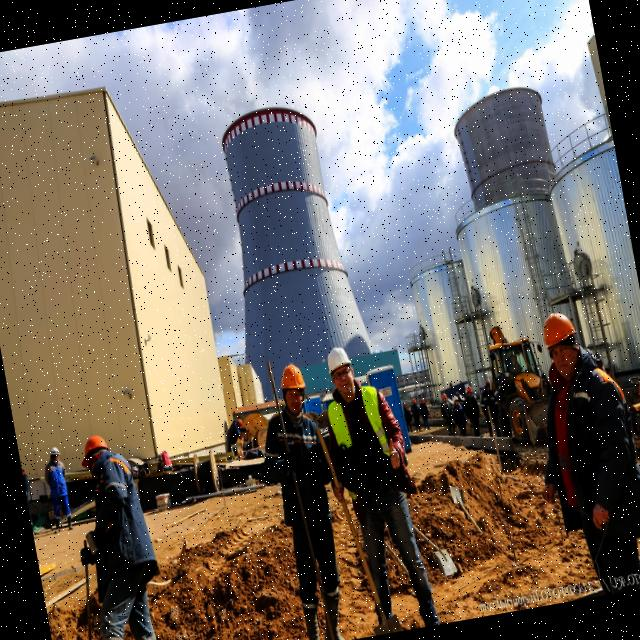Helmet: (539, 311, 578, 354), (324, 344, 356, 381), (77, 435, 112, 467), (279, 363, 308, 399), (50, 446, 61, 458), (467, 386, 475, 395), (237, 419, 244, 428), (484, 381, 491, 389), (454, 397, 461, 404), (442, 393, 448, 401), (413, 398, 418, 406), (403, 402, 408, 410), (421, 399, 426, 405)
Jacket: (326, 380, 404, 497)
NoJacket: (550, 362, 640, 534), (91, 459, 154, 589), (271, 404, 335, 530), (49, 461, 69, 499), (484, 390, 500, 422), (468, 397, 482, 424), (454, 404, 468, 427), (442, 402, 454, 426), (421, 405, 430, 421), (413, 405, 421, 420), (404, 408, 412, 423)
